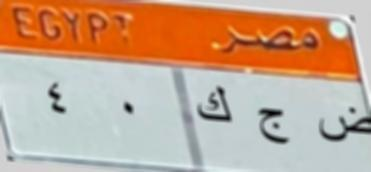0: (116, 92, 140, 125)
4: (45, 76, 67, 117)
daad: (316, 106, 371, 150)
jeem: (256, 101, 292, 152)
kaaf: (193, 81, 234, 132)
